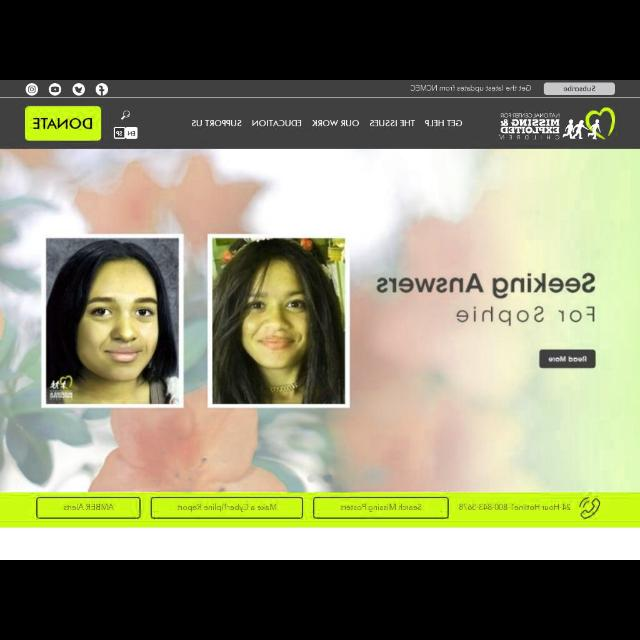backgroundimage: (2, 150, 638, 492)
icon: (578, 497, 602, 519), (118, 110, 132, 120)
image: (494, 108, 618, 144), (72, 83, 86, 93), (95, 85, 108, 95), (48, 85, 60, 95), (26, 86, 38, 92)
text: (377, 273, 598, 323), (457, 505, 573, 511), (192, 117, 244, 129), (311, 118, 359, 130), (424, 116, 464, 130), (250, 120, 300, 130), (368, 120, 414, 128), (413, 88, 532, 90)
textbutton: (150, 496, 304, 520), (312, 496, 448, 518), (24, 106, 104, 140), (36, 498, 142, 518), (539, 350, 595, 366), (544, 84, 614, 94)
toolbar: (1, 100, 639, 148), (1, 82, 639, 96)
